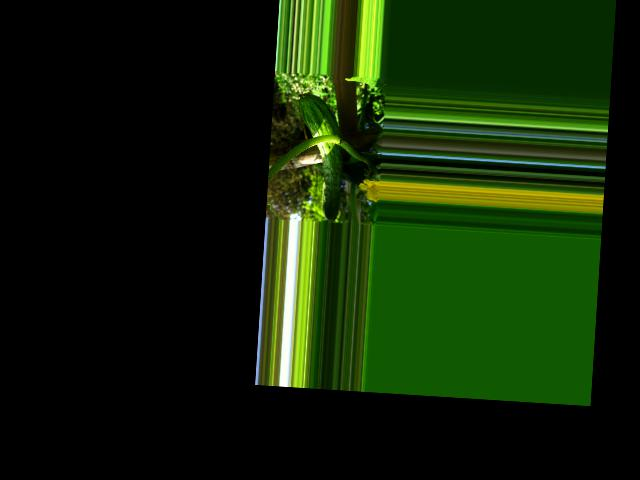cucumber: (292, 92, 347, 223)
